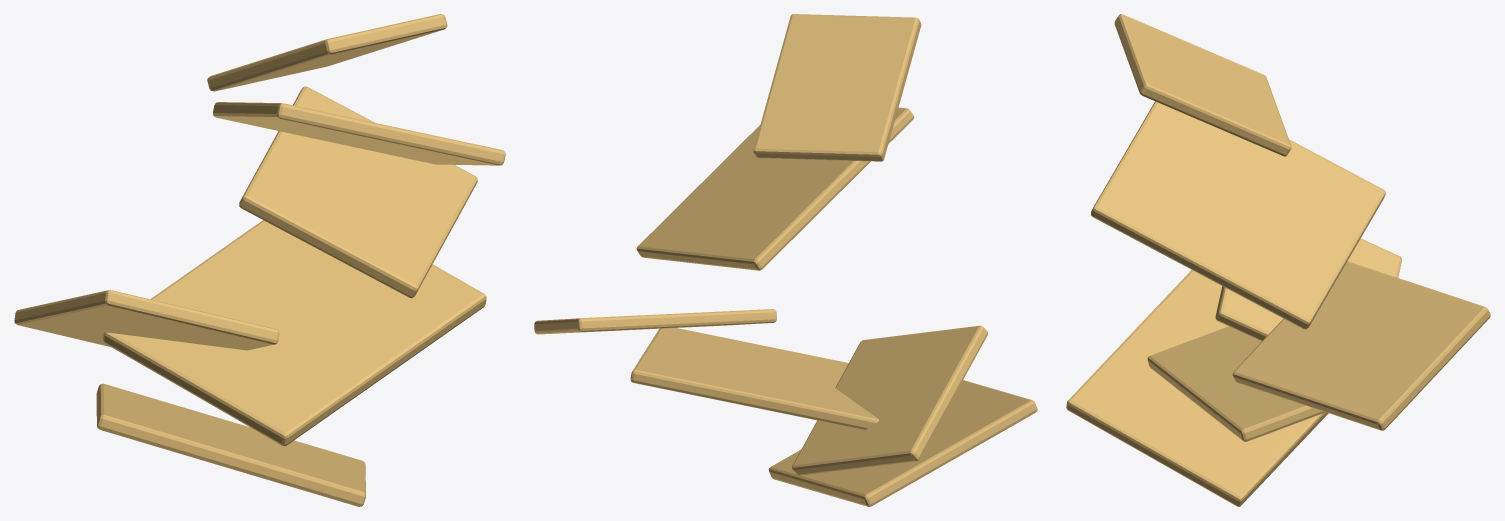
Rendered from gold-leaf-flake.glb.
3 views of the same model, side by side, from view 1: azimuth 30°, elevation 25°; view 2: azimuth 150°, elevation 25°; view 3: azimuth 270°, elevation 25° (orthographic). The views are drawn at different scales.
Visible parts, largest first — view 1: gold_Flake1_a, gold_Flake1_b, gold_Flake2_a, gold_Flake2_b, gold_Flake3_a, gold_Flake3_b; view 2: gold_Flake3_b, gold_Flake3_a, gold_Flake2_b, gold_Flake1_a, gold_Flake2_a, gold_Flake1_b; view 3: gold_Flake3_a, gold_Flake1_b, gold_Flake2_a, gold_Flake3_b, gold_Flake1_a, gold_Flake2_b.
Part boxes in pixels (x1,y1,x2,y2): gold_Flake1_a: (103, 220, 486, 446); gold_Flake1_b: (239, 86, 477, 298); gold_Flake2_a: (96, 383, 365, 506); gold_Flake2_b: (14, 290, 279, 350); gold_Flake3_a: (213, 102, 505, 165); gold_Flake3_b: (207, 14, 447, 91); gold_Flake3_b: (753, 14, 921, 161); gold_Flake3_a: (636, 107, 914, 270); gold_Flake2_b: (792, 325, 987, 475); gold_Flake1_a: (630, 328, 878, 429); gold_Flake2_a: (768, 380, 1037, 506); gold_Flake1_b: (534, 309, 776, 334); gold_Flake3_a: (1091, 101, 1385, 329); gold_Flake1_b: (1232, 261, 1490, 430); gold_Flake2_a: (1066, 270, 1328, 506); gold_Flake3_b: (1114, 14, 1291, 156); gold_Flake1_a: (1147, 326, 1325, 441); gold_Flake2_b: (1215, 238, 1401, 340).
Size of what is drawn, in the model's own units: 0.2789 by 0.2818 by 0.241.
